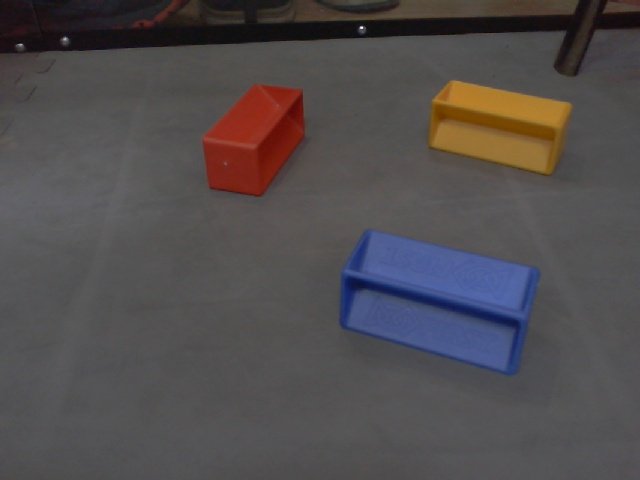BlueSample: (337, 227, 542, 379)
RedSample: (198, 83, 304, 197)
YellowSample: (427, 78, 575, 179)
